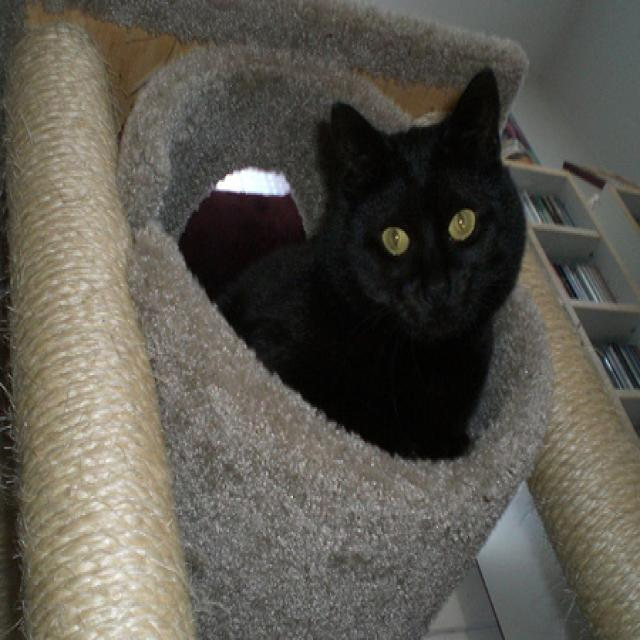Bombay: (209, 63, 532, 470)
